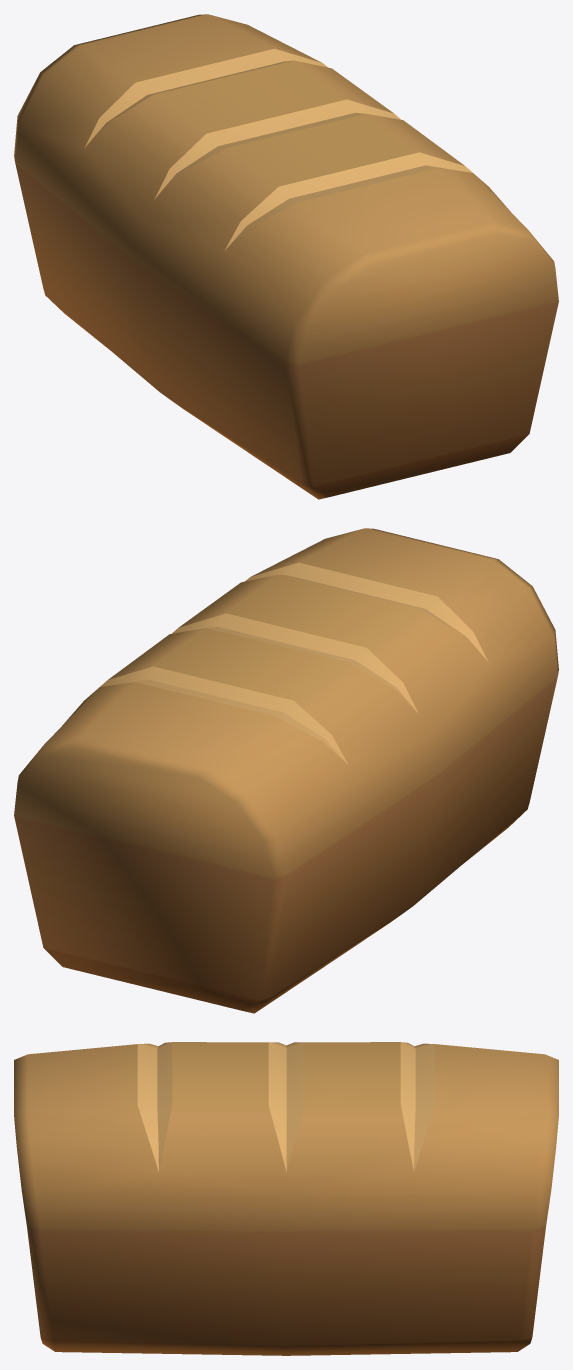
File: Bread_1_A.fbx
The picture shows the model from 3 angles, top to bottom: view 1: azimuth 30°, elevation 25°; view 2: azimuth 150°, elevation 25°; view 3: azimuth 270°, elevation 25°; orthographic projection. The views are drawn at different scales.
Parts seen in each view (by area): view 1: Bread_1_A; view 2: Bread_1_A; view 3: Bread_1_A.
Boxes of the visible parts, x1,y1,x2,y2 form: Bread_1_A: (14, 14, 558, 499); Bread_1_A: (14, 528, 558, 1013); Bread_1_A: (14, 1042, 558, 1355).
Bounding box in the file's own units: 22.97 × 18.74 × 39.14.
